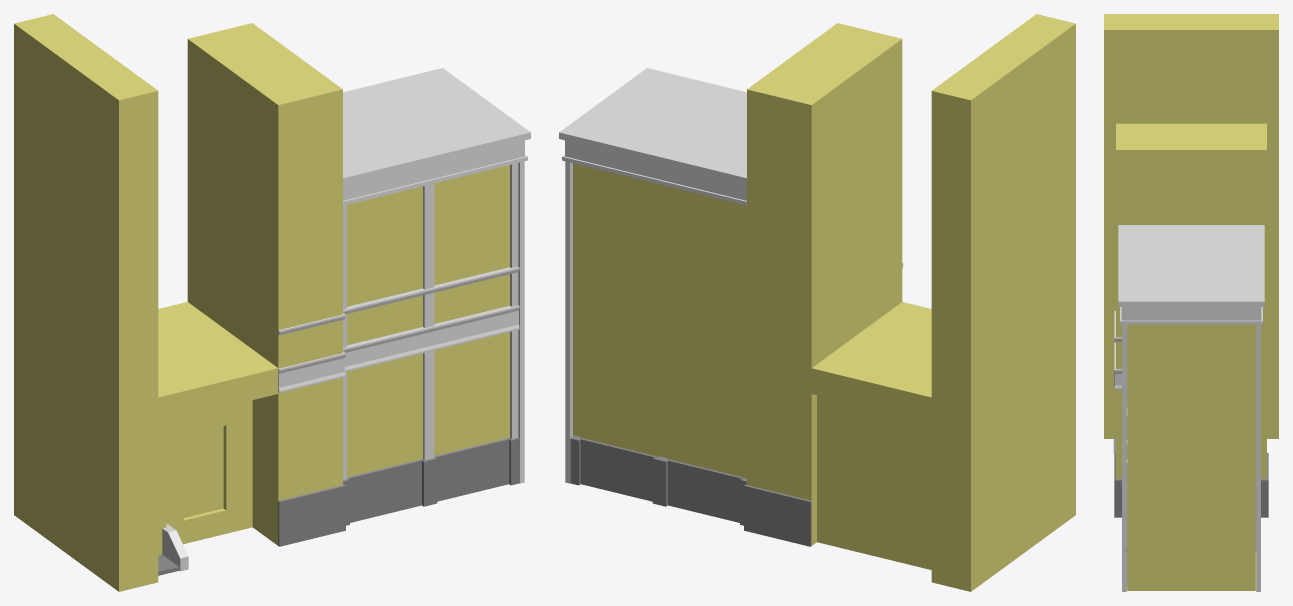
File: SP_House07_Base01.fbx
The picture shows the model from 3 angles, left to right: view 1: azimuth 30°, elevation 25°; view 2: azimuth 150°, elevation 25°; view 3: azimuth 270°, elevation 25°; orthographic projection. The views are drawn at different scales.
Parts seen in each view (by area): view 1: SP_House07_Base01; view 2: SP_House07_Base01; view 3: SP_House07_Base01.
Part boxes in pixels (x1=…): SP_House07_Base01: x1=14, y1=14, x2=530, y2=591; SP_House07_Base01: x1=559, y1=14, x2=1075, y2=591; SP_House07_Base01: x1=1104, y1=14, x2=1278, y2=591.
Bounding box in the file's own units: 13.23 × 14.78 × 5.72.
